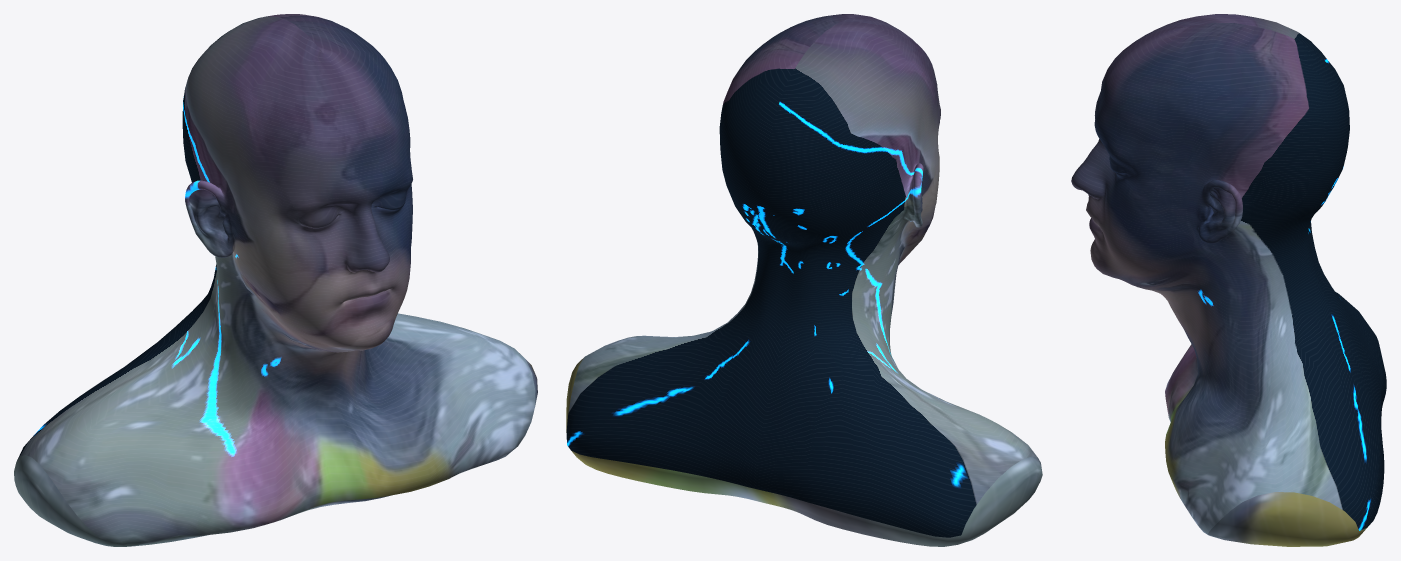
Rendered from holo_1767781593874.glb.
The picture shows the model from 3 angles, left to right: view 1: azimuth 30°, elevation 25°; view 2: azimuth 150°, elevation 25°; view 3: azimuth 270°, elevation 25°; orthographic projection. The views are drawn at different scales.
Visible parts, largest first — view 1: LeePerrySmith; view 2: LeePerrySmith; view 3: LeePerrySmith.
Part boxes in pixels (x1,y1,x2,y2): LeePerrySmith: [14, 14, 537, 546]; LeePerrySmith: [566, 14, 1042, 546]; LeePerrySmith: [1071, 14, 1386, 546].
Size of the model in its own units: 8.55 by 7.95 by 5.18.
Materials: 1 (1 with a texture image).
